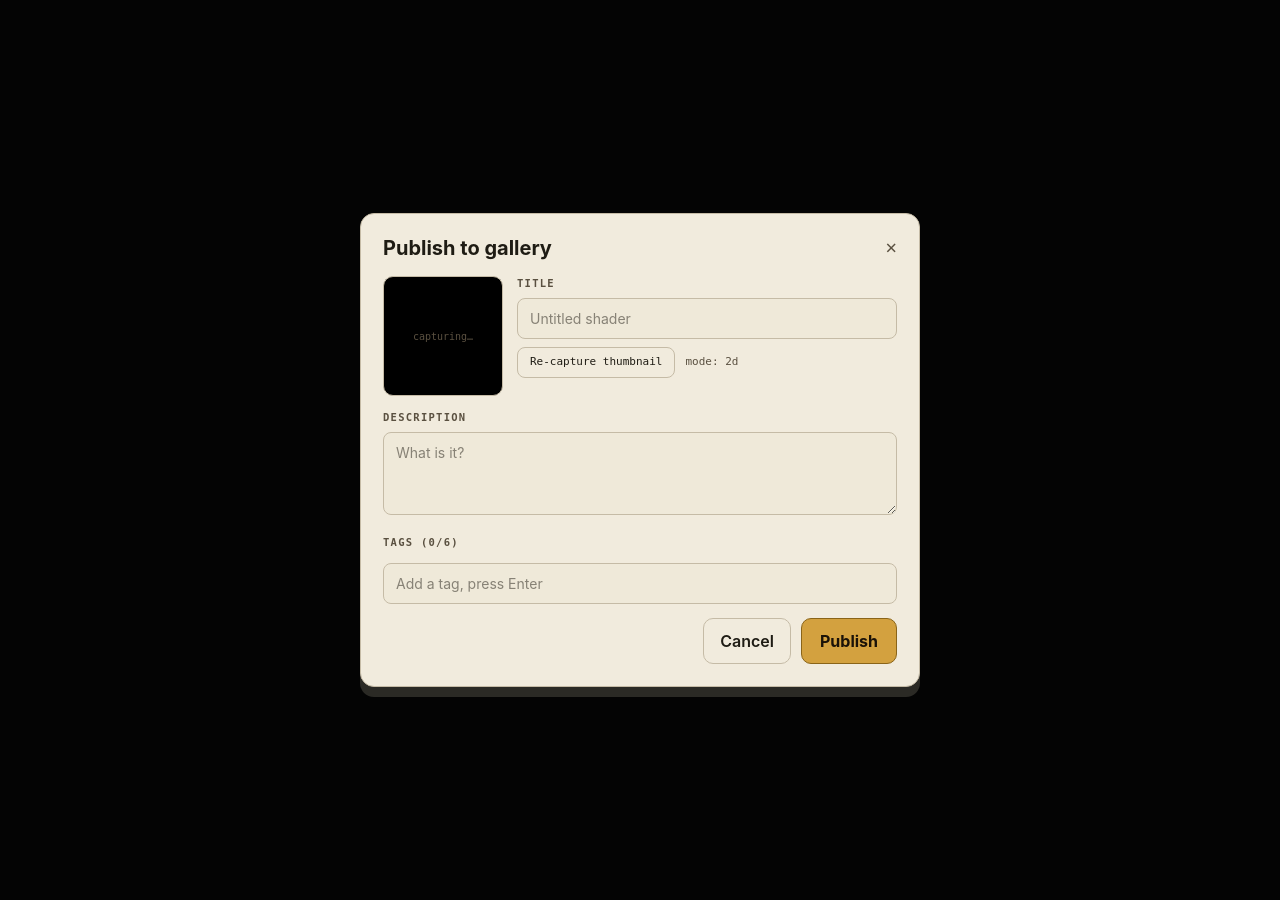
Test: PublishModal › blocks publish without a title
Click the button "Publish" at (849, 641), box x1=801 y1=618 x2=897 y2=664
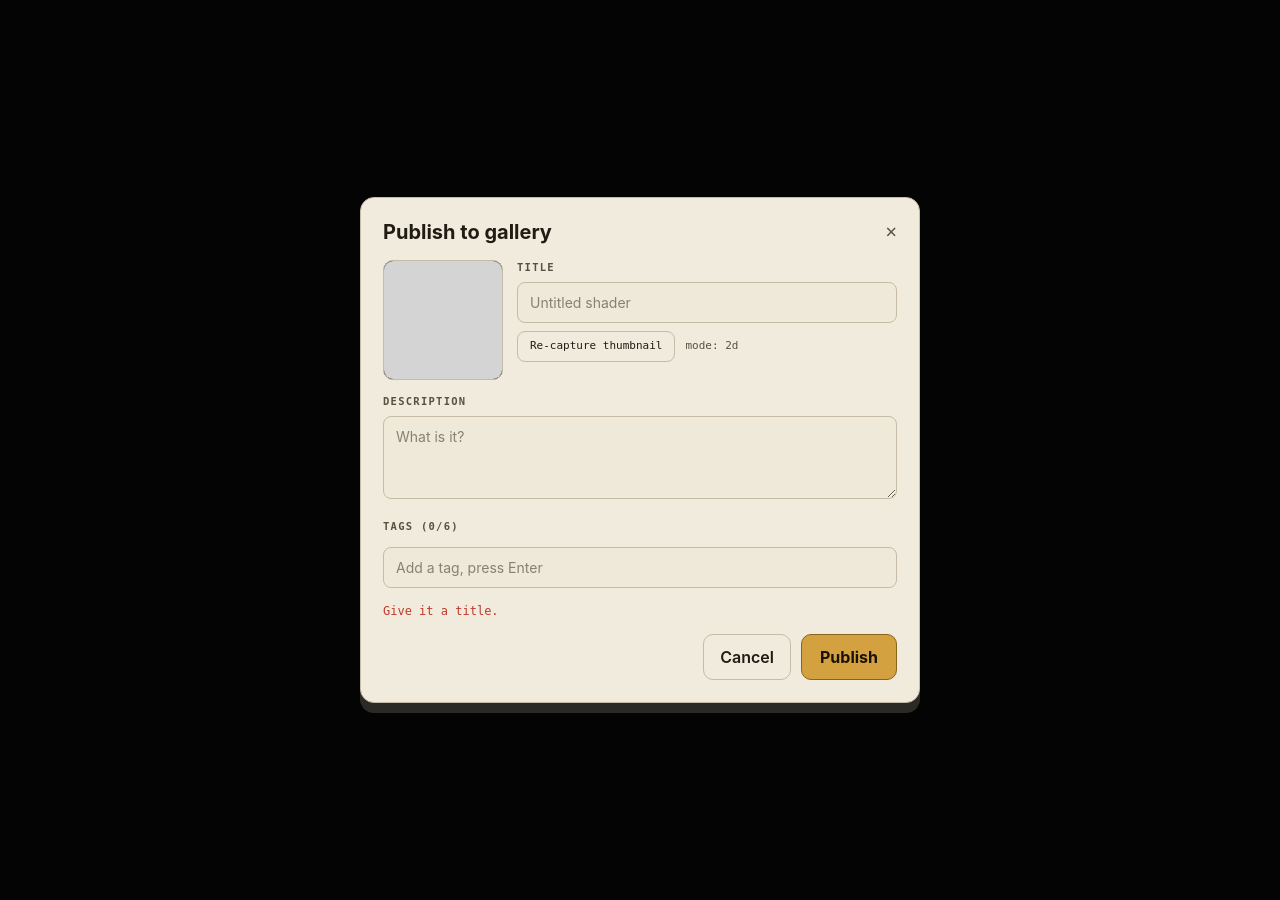
Now the text "Give it a title." is shown, box x1=383 y1=604 x2=499 y2=618
